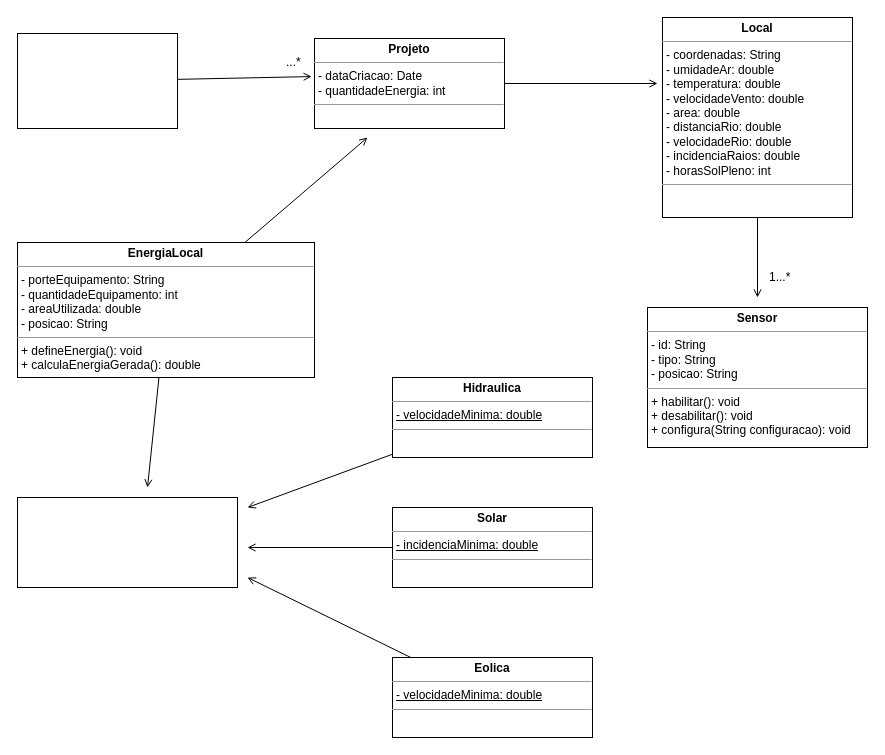
Some shapes in this 885 by 755 pixel diagram are drawn without their labels. Here are the shapes that lost their labels. From the top down, the centre of each, then its label:
At point 97,80: "Usuario - nome: String - email: String - senha: String".
At point 127,542: "Energia - nivelImpacto: int - nivelRuido: double".
